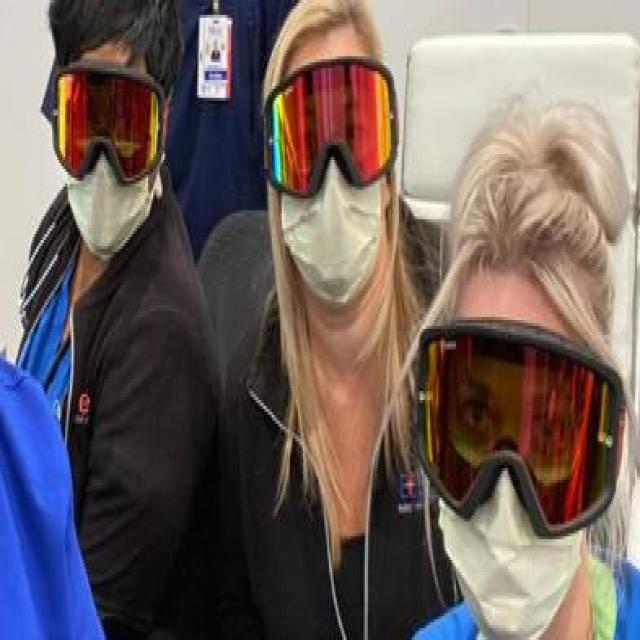Goggles: (412, 314, 622, 536), (257, 56, 399, 193), (49, 59, 174, 184)
Mask: (436, 462, 583, 640), (277, 154, 381, 302), (64, 130, 155, 261)
